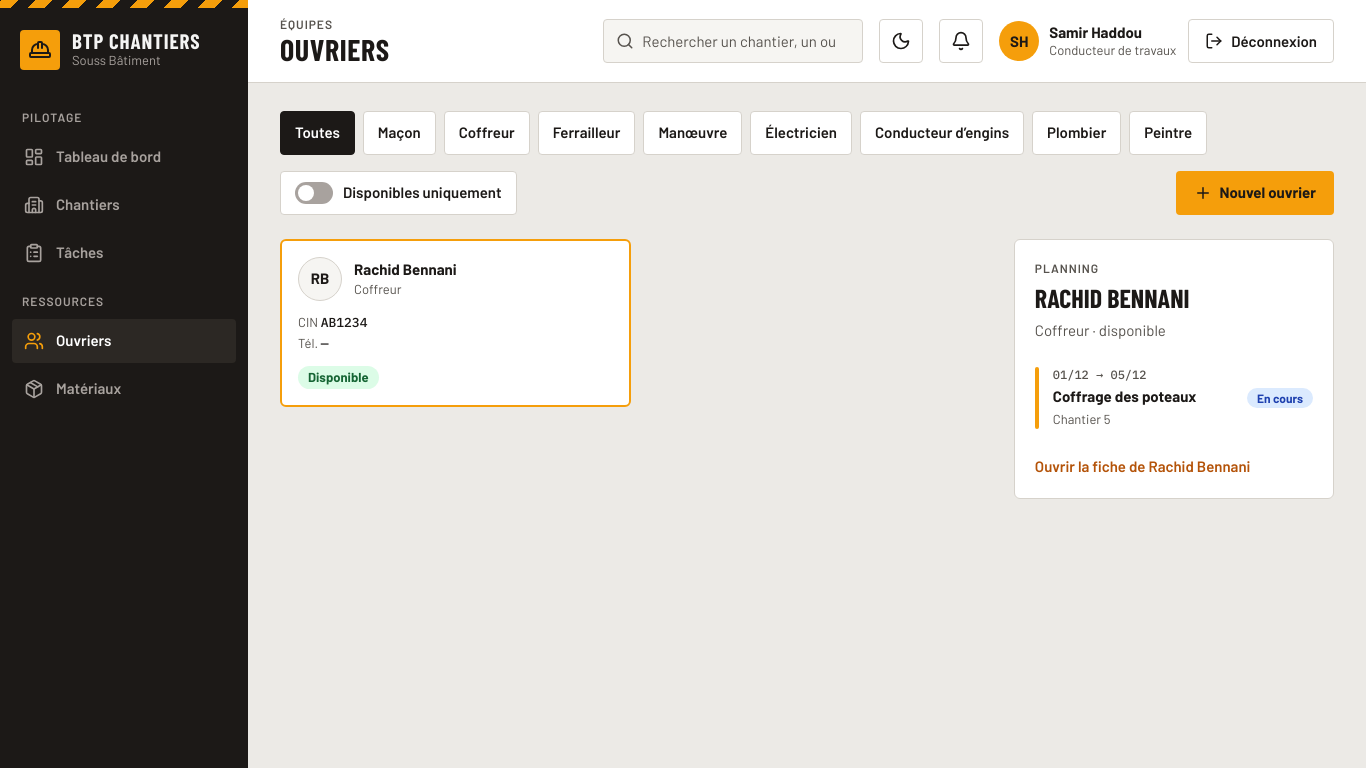
Test case: Liste des ouvriers (API réelle) › 409 « CIN déjà utilisée » renvoyé par l’API : message sous le champ CIN
The image size is (1366, 768).
Click the button "Nouvel ouvrier".
click(1255, 192)  # box [1176,170,1334,214]
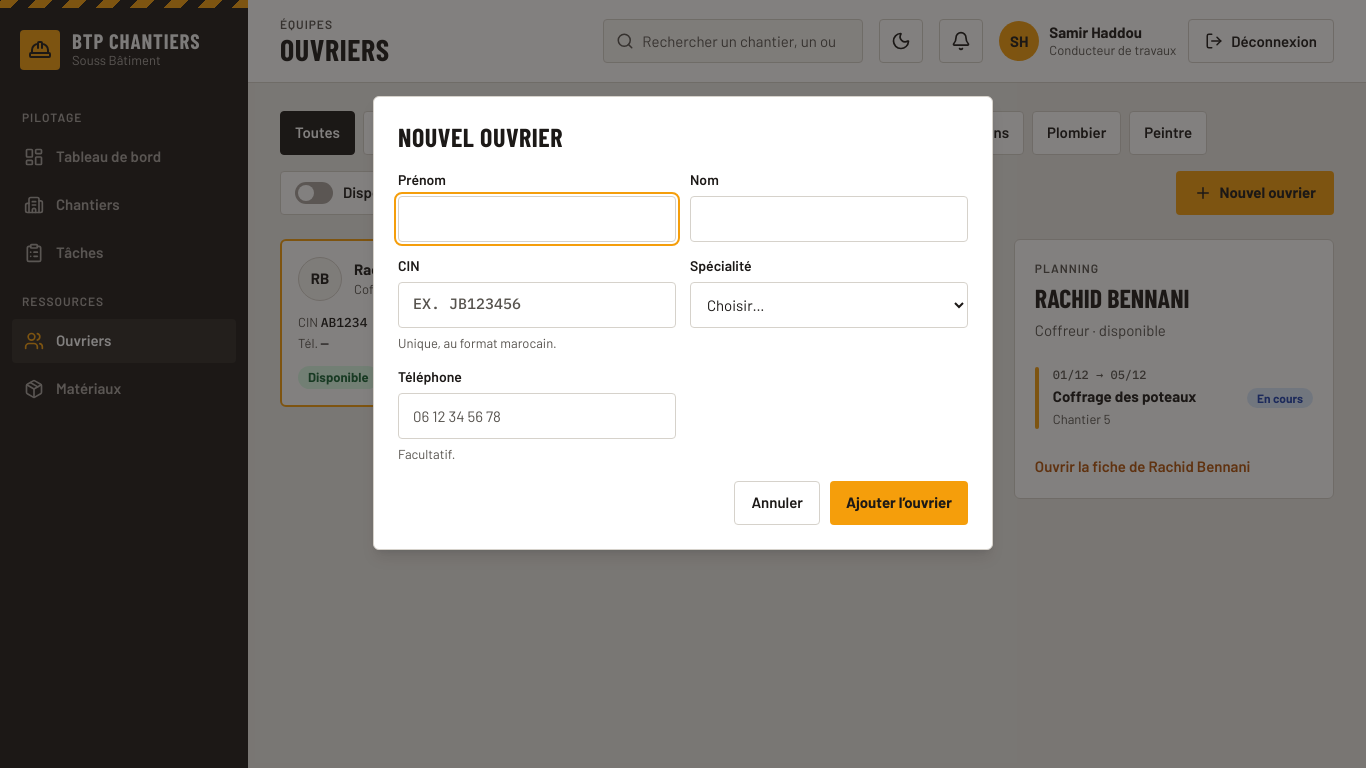
Type "Ali" into the field labelled "Prénom".
click(537, 218); type("Ali")  # box [398,196,676,242]
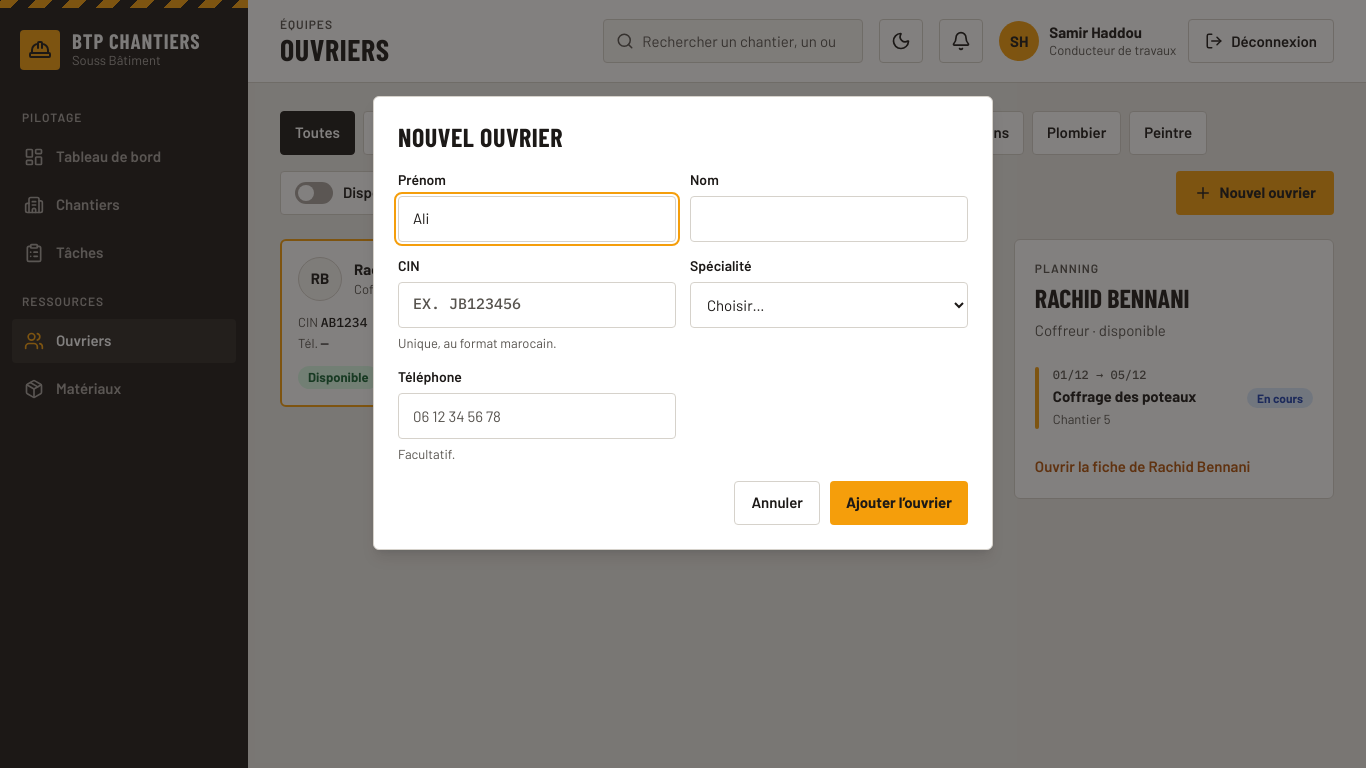
Type "Idrissi" into the field labelled "Nom".
click(829, 218); type("Idrissi")  # box [690,196,968,242]
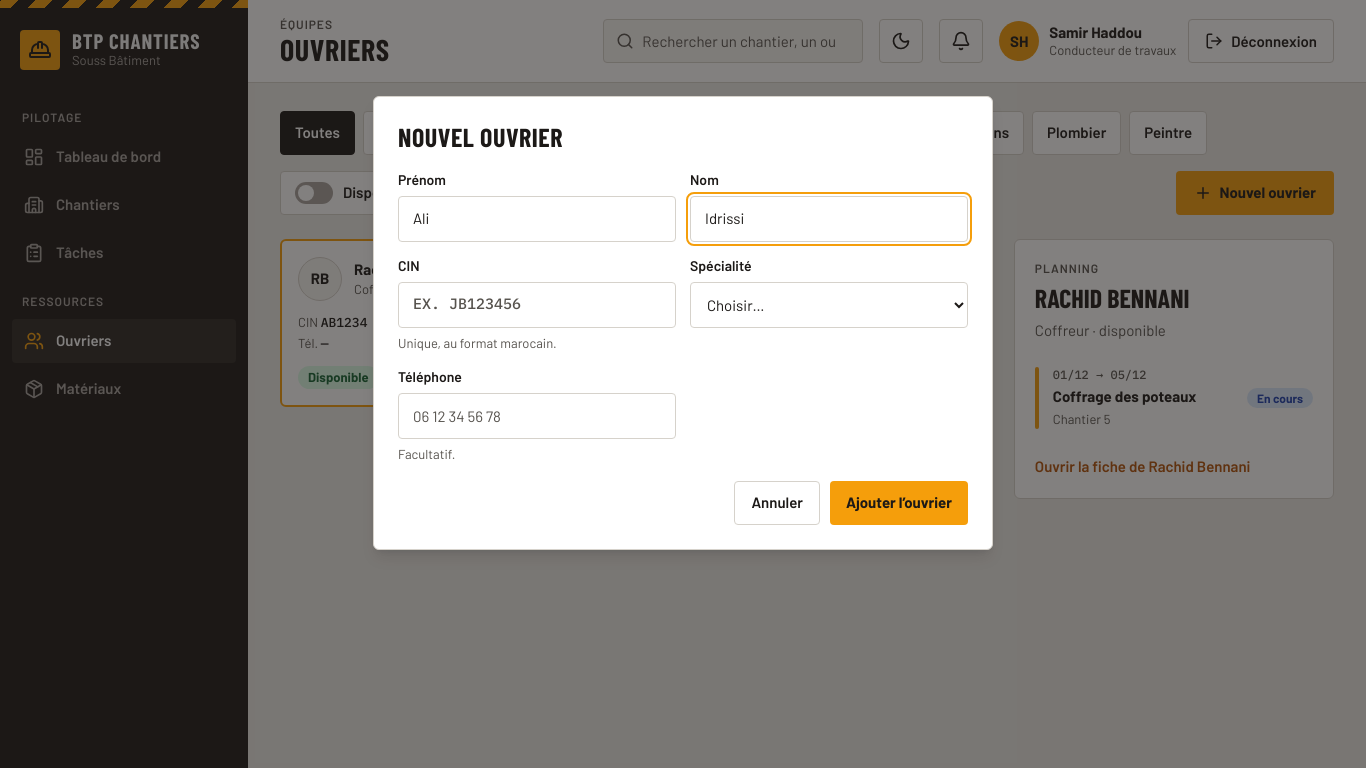
Type "ab1234" into the field labelled "CIN".
click(537, 304); type("ab1234")  # box [398,282,676,328]
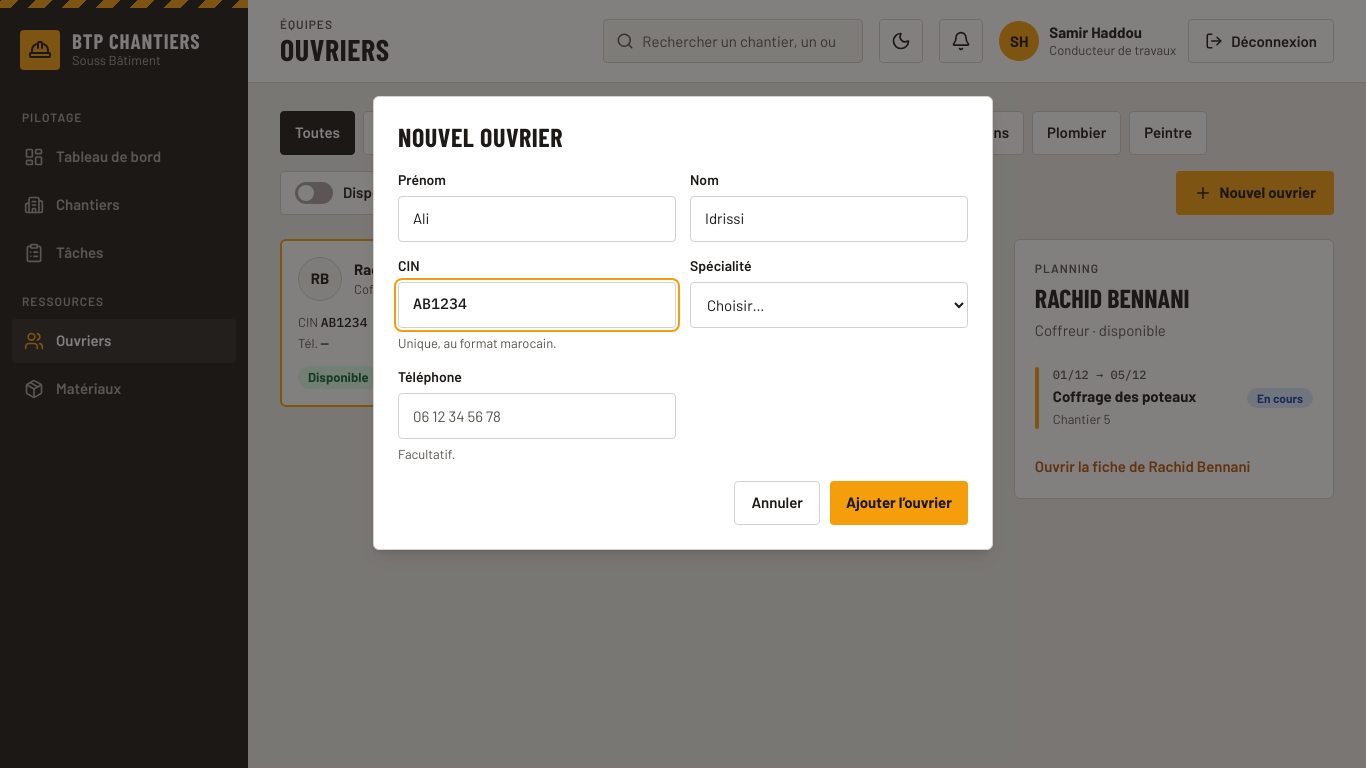
Select "Peintre" in the dropdown labelled "Spécialité" at (829, 304), box [690,282,968,328]
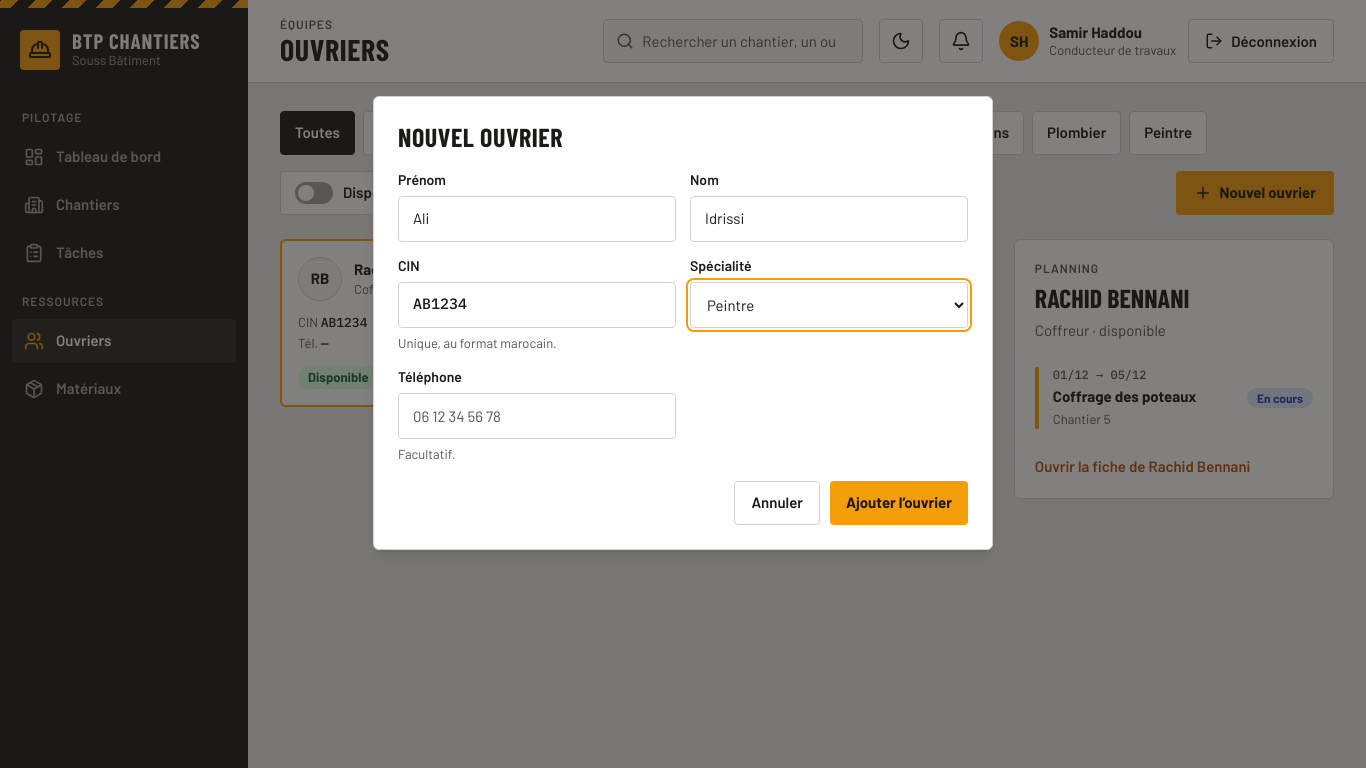
Click the button "Ajouter l’ouvrier".
click(899, 502)  # box [830,480,968,524]
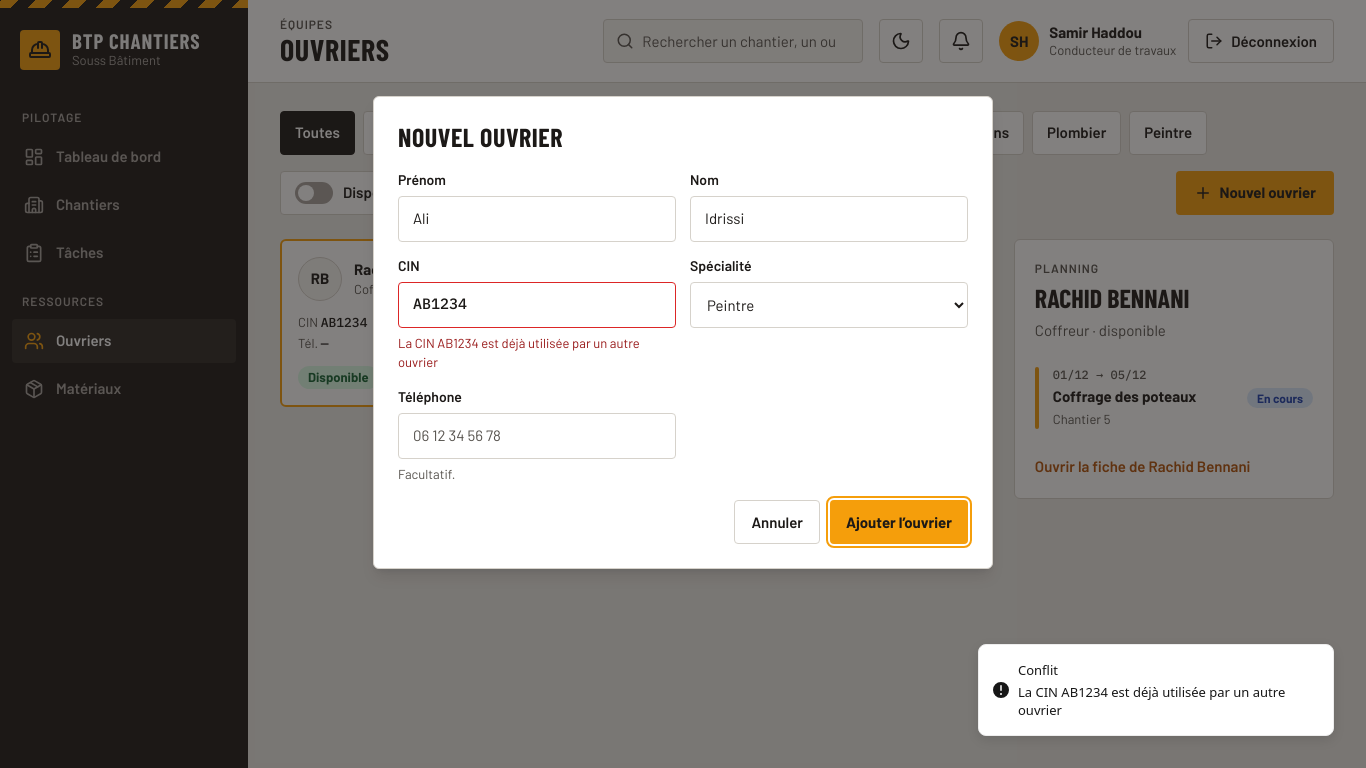
Now the text "La CIN AB1234 est déjà utilisée par un autre ouvrier" is shown 2 times, box [1018,683,1317,719]; [398,334,676,372]
